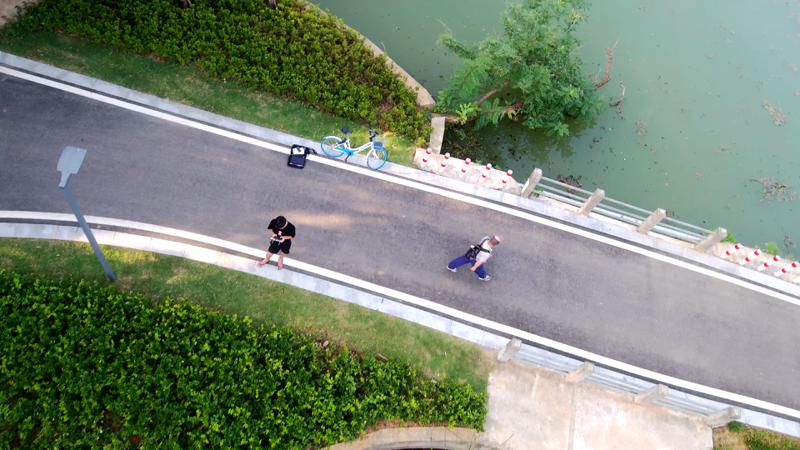passerby: (444, 232, 503, 281), (256, 214, 296, 270)
